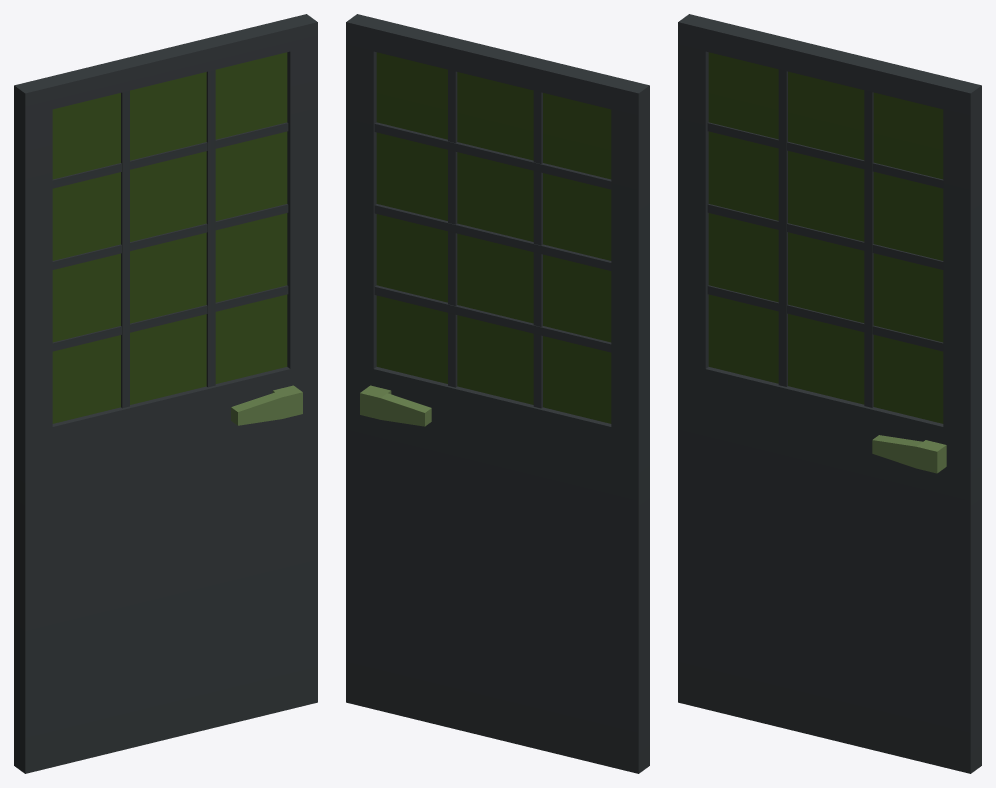
File: House_26_Door01.fbx
3 renders of one model, left to right at view 1: azimuth 30°, elevation 25°; view 2: azimuth 150°, elevation 25°; view 3: azimuth 330°, elevation 25°, orthographic.
Parts seen in each view (by area): view 1: House_26_Door01; view 2: House_26_Door01; view 3: House_26_Door01.
Part boxes in pixels (box(x1,y1,x2,y2)): House_26_Door01: box(14, 14, 317, 773); House_26_Door01: box(346, 14, 649, 773); House_26_Door01: box(678, 14, 981, 773).
Bounding box in the file's own units: 0.9 × 2 × 0.1641.
